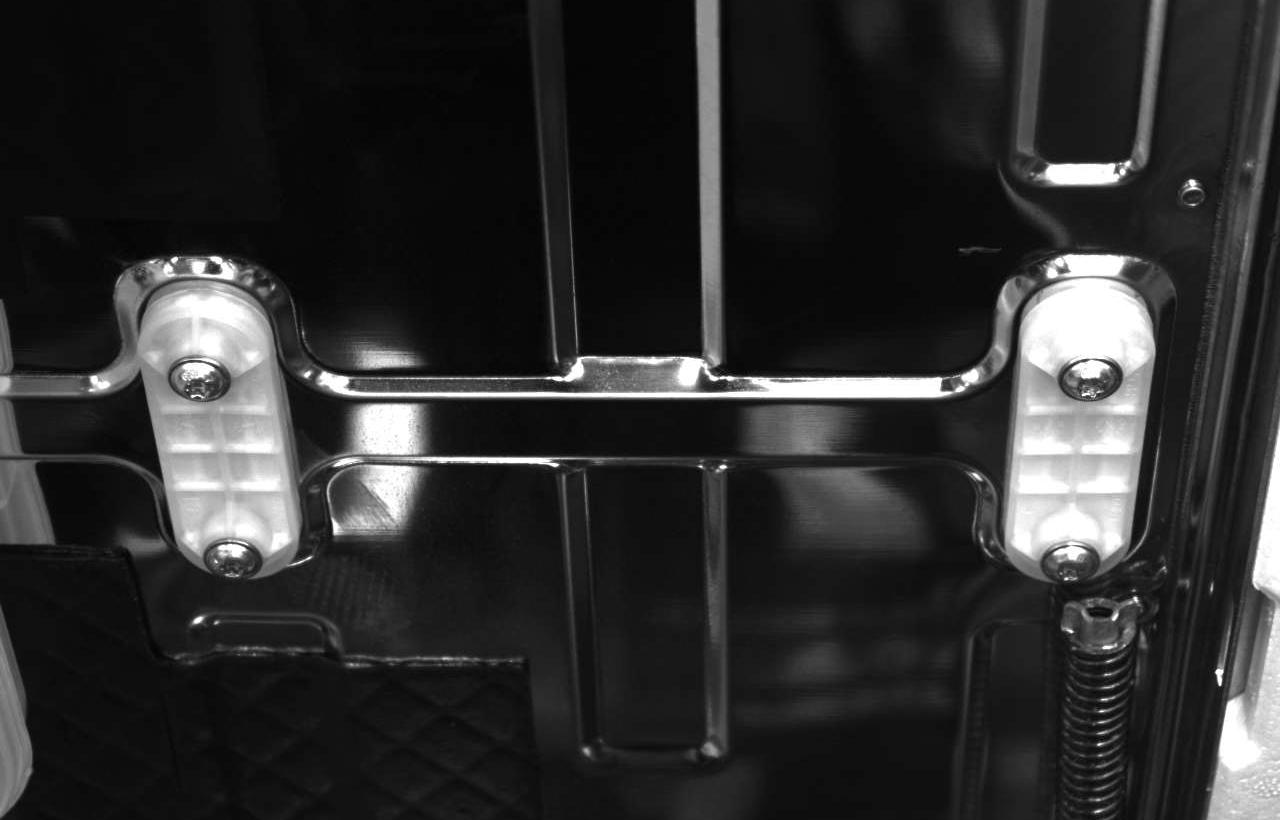vida-ok: (161, 342, 233, 409), (1059, 341, 1126, 408), (201, 529, 267, 588), (1034, 528, 1100, 587)
